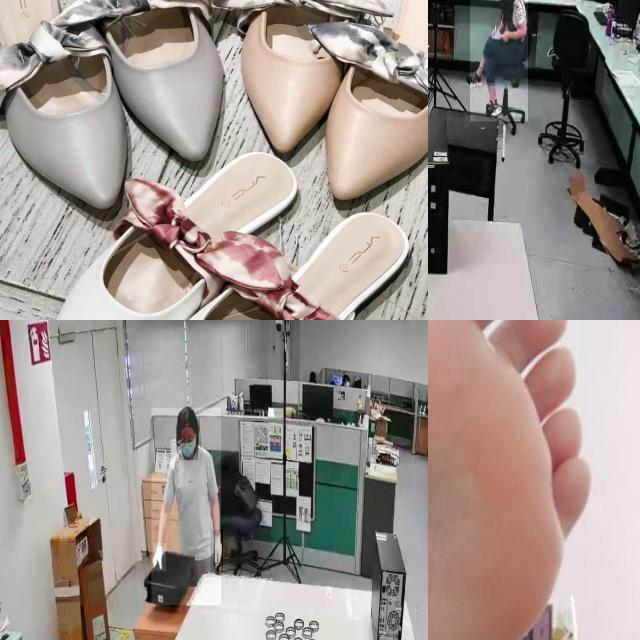Barefoots: (428, 320, 623, 640)
Sandals: (10, 123, 413, 320), (0, 0, 229, 221), (219, 0, 428, 214)
face_mask: (178, 426, 198, 460)
glasses: (178, 436, 196, 450)
hand_glove: (210, 529, 223, 573), (153, 543, 167, 572)
hand_noglove: (499, 28, 511, 42)
head_nohelmet: (175, 405, 199, 425)
person: (152, 408, 222, 606), (469, 0, 528, 122)
shoes: (466, 67, 486, 91), (484, 99, 503, 118)
